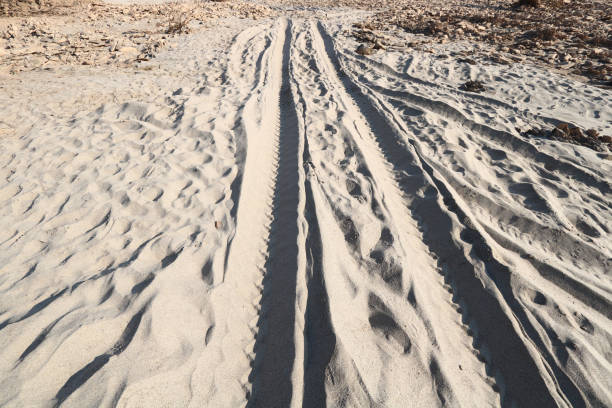vehicle_track: (317, 23, 582, 405), (295, 25, 464, 404), (208, 21, 285, 403), (247, 21, 305, 406)
